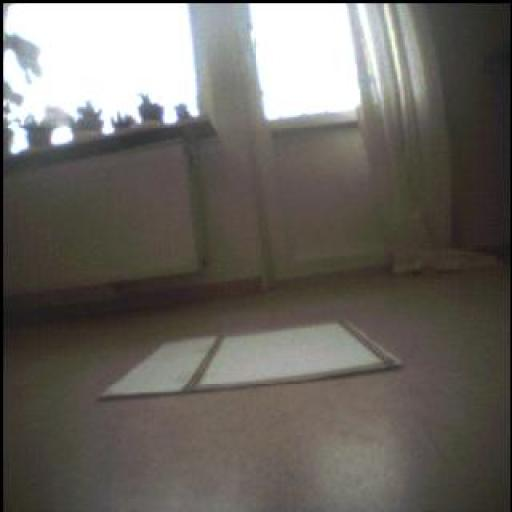Pad: (96, 314, 413, 402)
